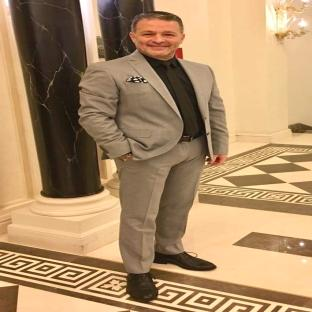Human: (79, 11, 228, 301)
